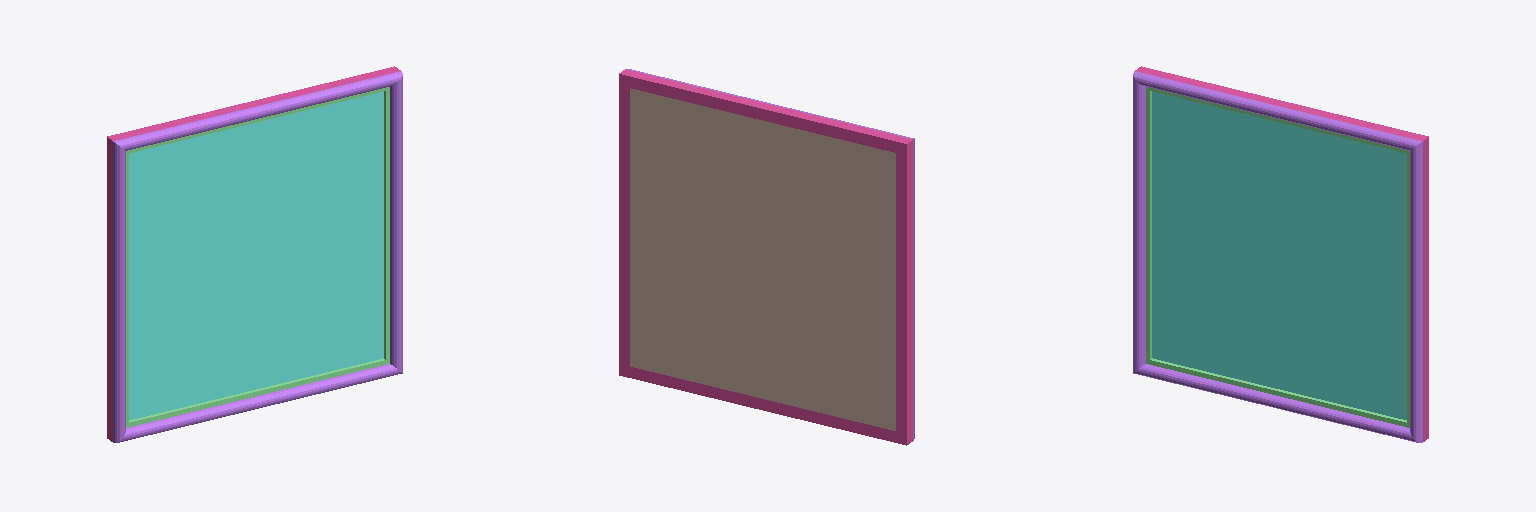
Rendered from tomato.obj.
3 renders of one model, left to right at view 1: azimuth 30°, elevation 25°; view 2: azimuth 150°, elevation 25°; view 3: azimuth 330°, elevation 25°, orthographic.
Parts seen in each view (by area): view 1: Form3_Form3; view 2: Form3_Form3; view 3: Form3_Form3.
Boxes of the visible parts, box(x1,y1,x2,y2) form: Form3_Form3: box(107, 66, 402, 442); Form3_Form3: box(619, 69, 914, 445); Form3_Form3: box(1133, 66, 1428, 442).
Bounding box in the file's own units: 6.5 × 6.5 × 0.4.